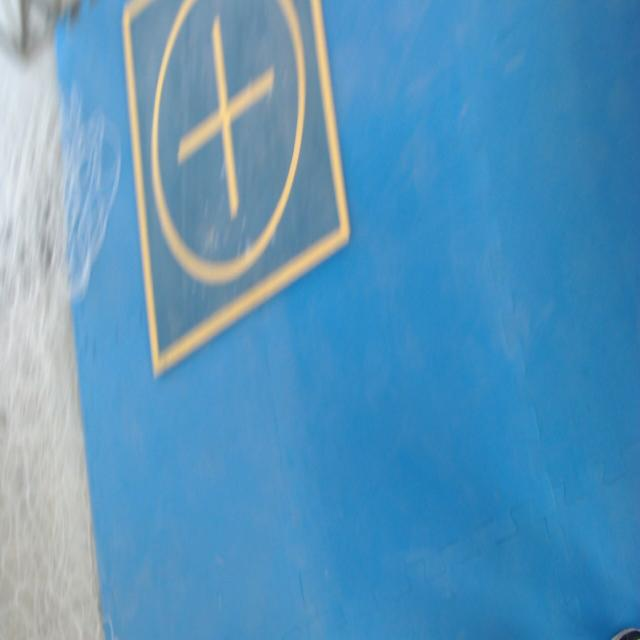base_pouso: (122, 0, 352, 381)
